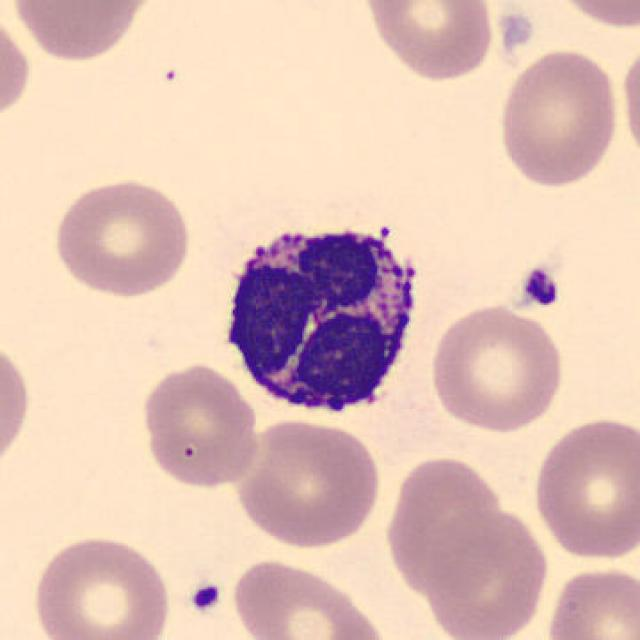Basophil: (210, 206, 428, 428)
Platelets: (518, 263, 564, 312), (494, 7, 537, 56), (185, 578, 224, 617)
RBC: (231, 416, 384, 550), (494, 44, 622, 190), (380, 452, 505, 600), (419, 502, 553, 640), (427, 302, 567, 434), (48, 174, 194, 300), (137, 360, 263, 492), (26, 530, 174, 640), (528, 412, 636, 562), (229, 555, 391, 640), (359, 0, 498, 83), (7, 0, 155, 65), (542, 562, 638, 640), (0, 331, 34, 478), (0, 11, 34, 127), (544, 0, 640, 32), (618, 37, 640, 167)
